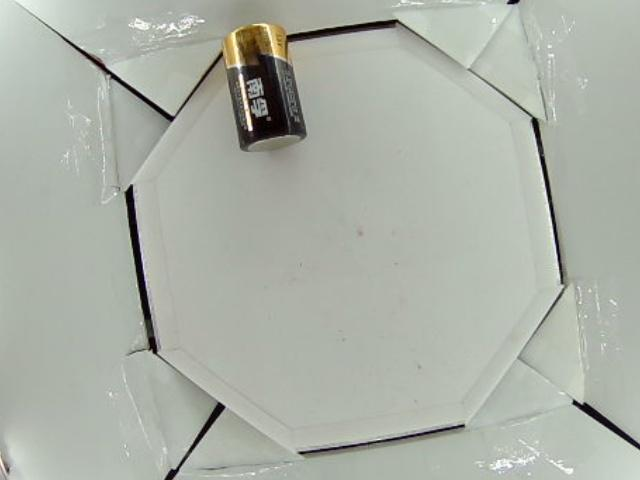Battery: (220, 21, 305, 152)
